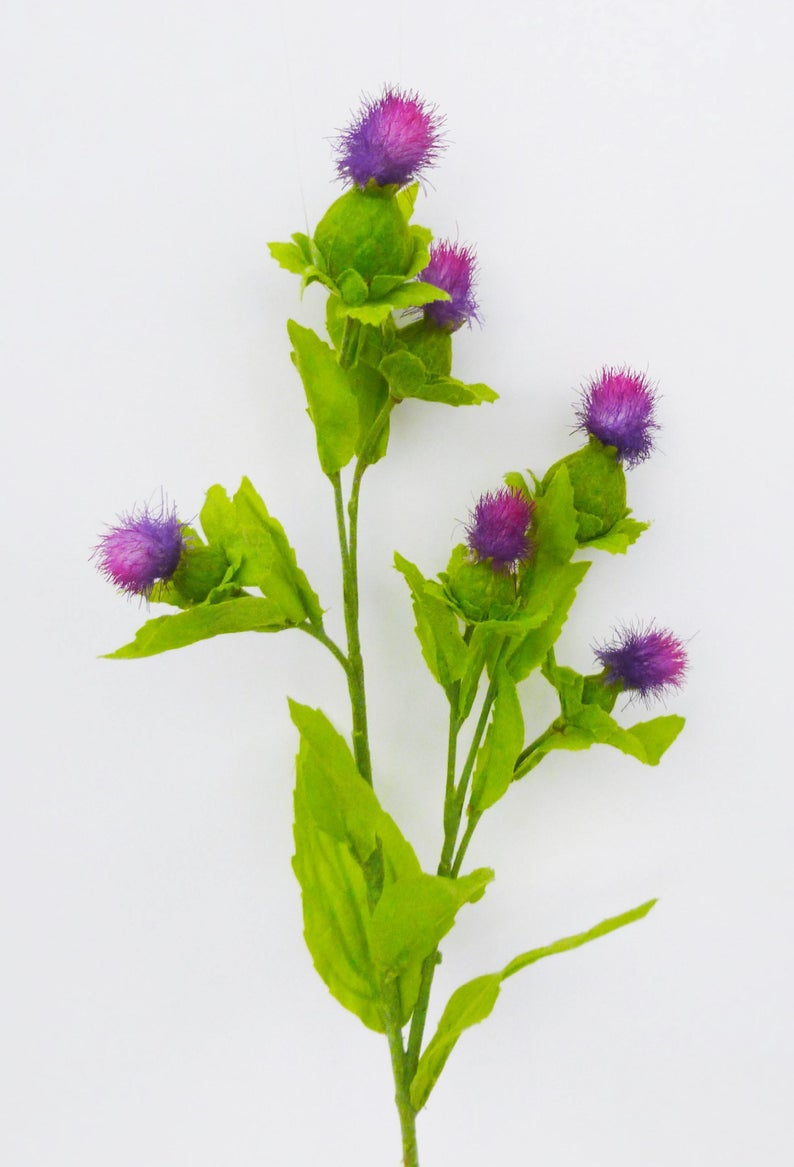thistle: (301, 91, 435, 300), (541, 353, 648, 557), (96, 482, 246, 615), (425, 495, 532, 644), (557, 628, 700, 719)
